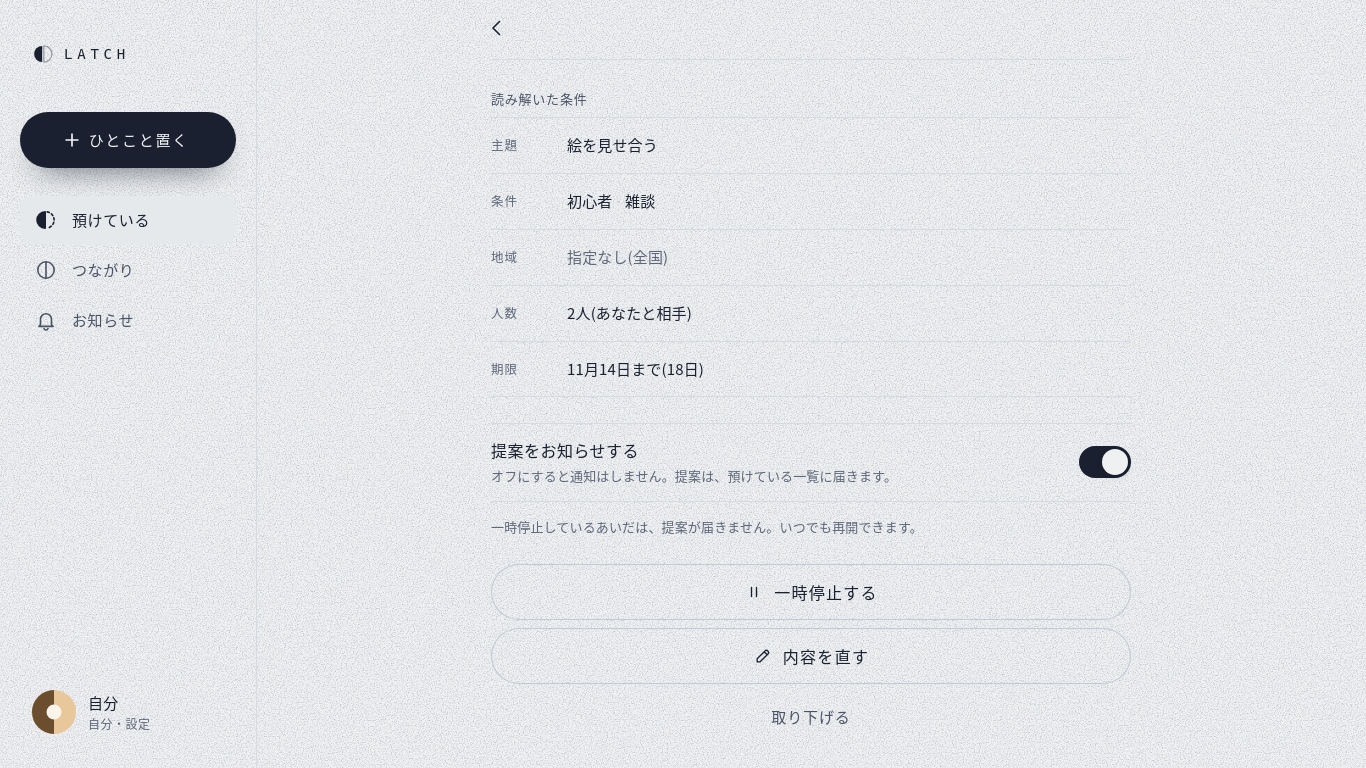
IntentDetail 操作 › 取り下げが500なら一般の一文を出す(503の文言と分ける)
(page scrolled)
Click the button "取り下げる" at (811, 716), box [491, 692, 1131, 740]
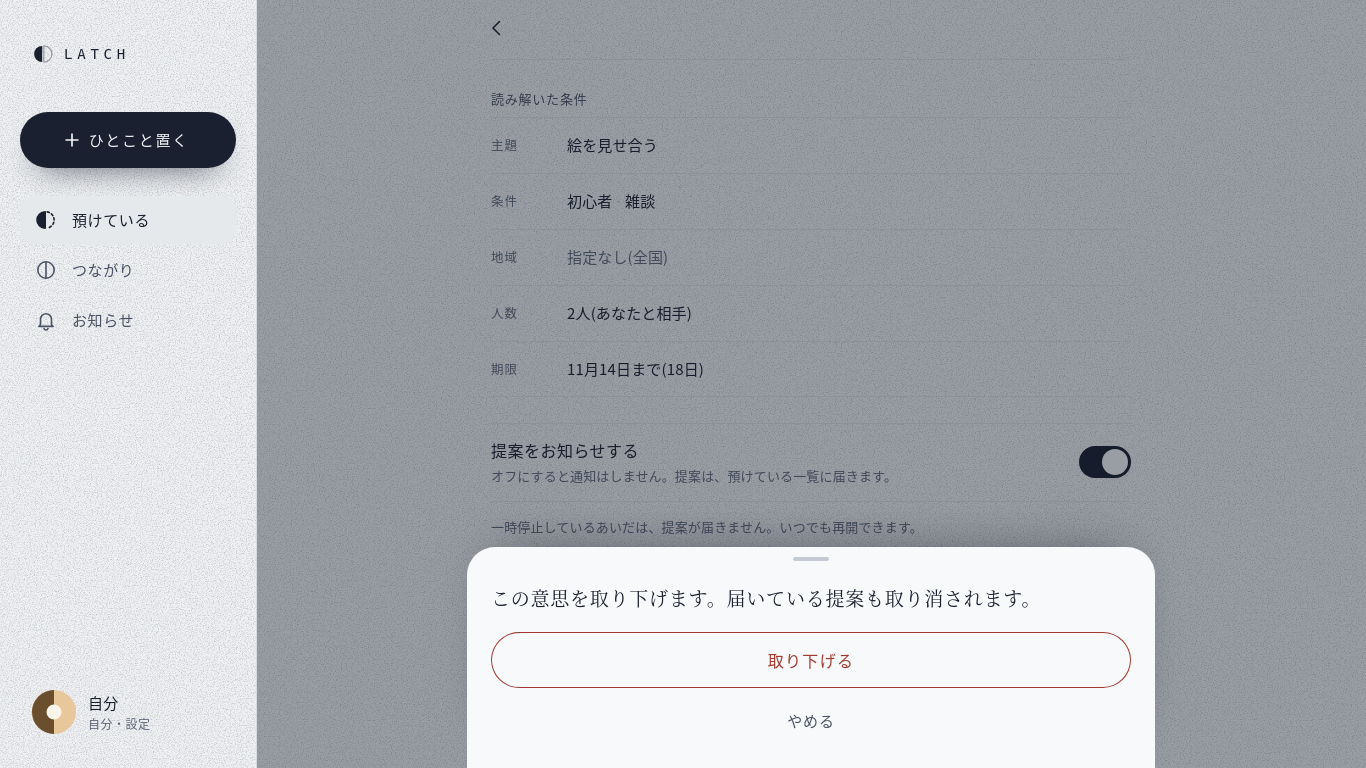
Click the button "取り下げる" at (811, 660), box [491, 632, 1131, 688]
(page scrolled)
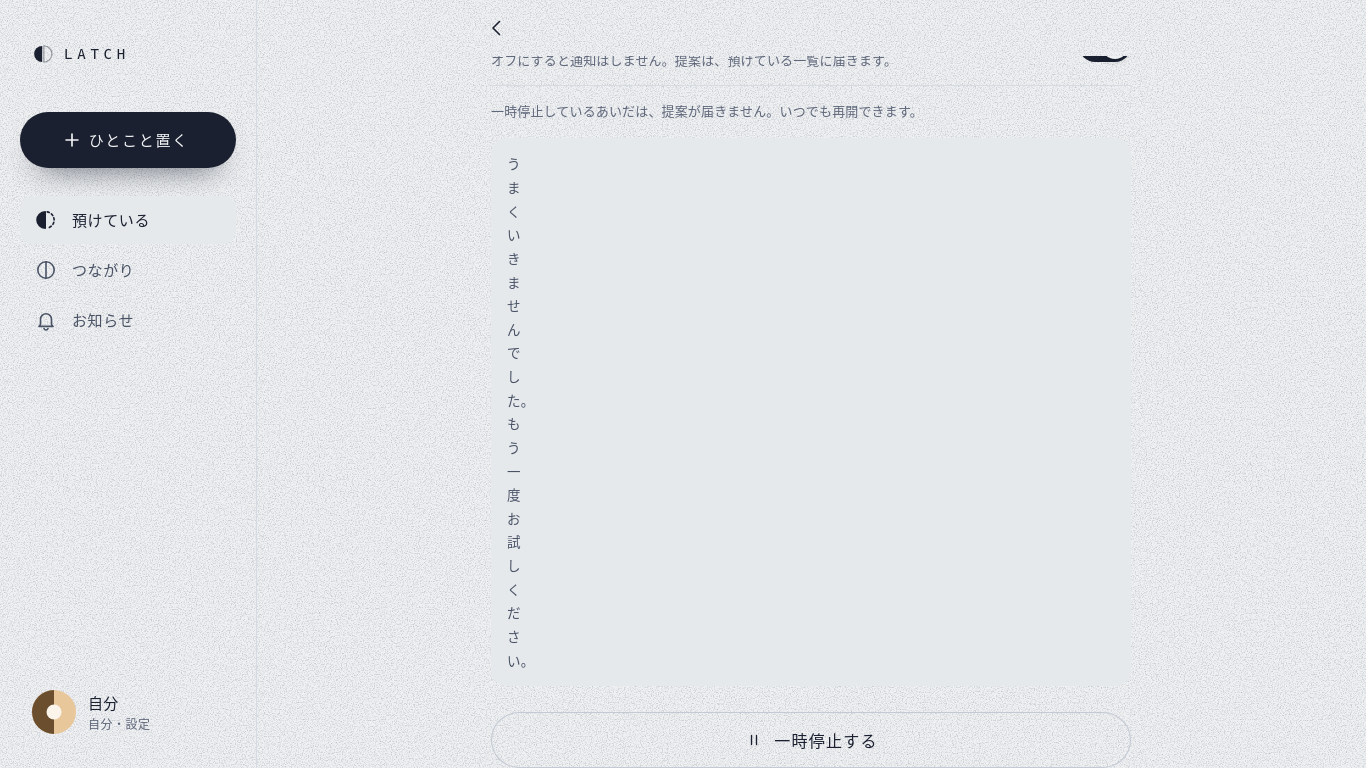
Check: the text "うまくいきませんでした。もう一度お試しください。" is shown, box [491, 138, 1131, 686]
